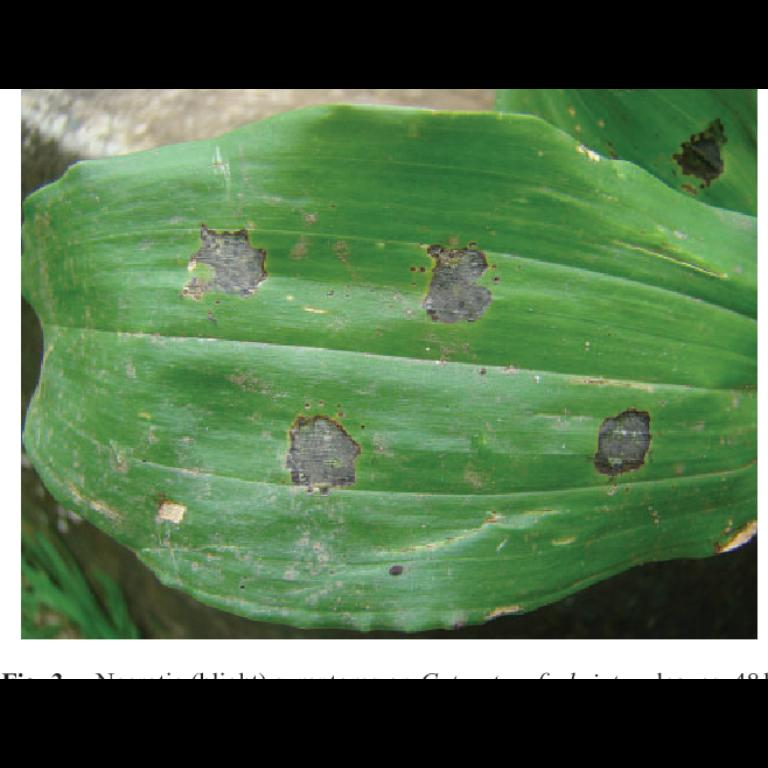blight: (262, 387, 382, 511), (175, 202, 279, 316), (411, 222, 517, 330)
